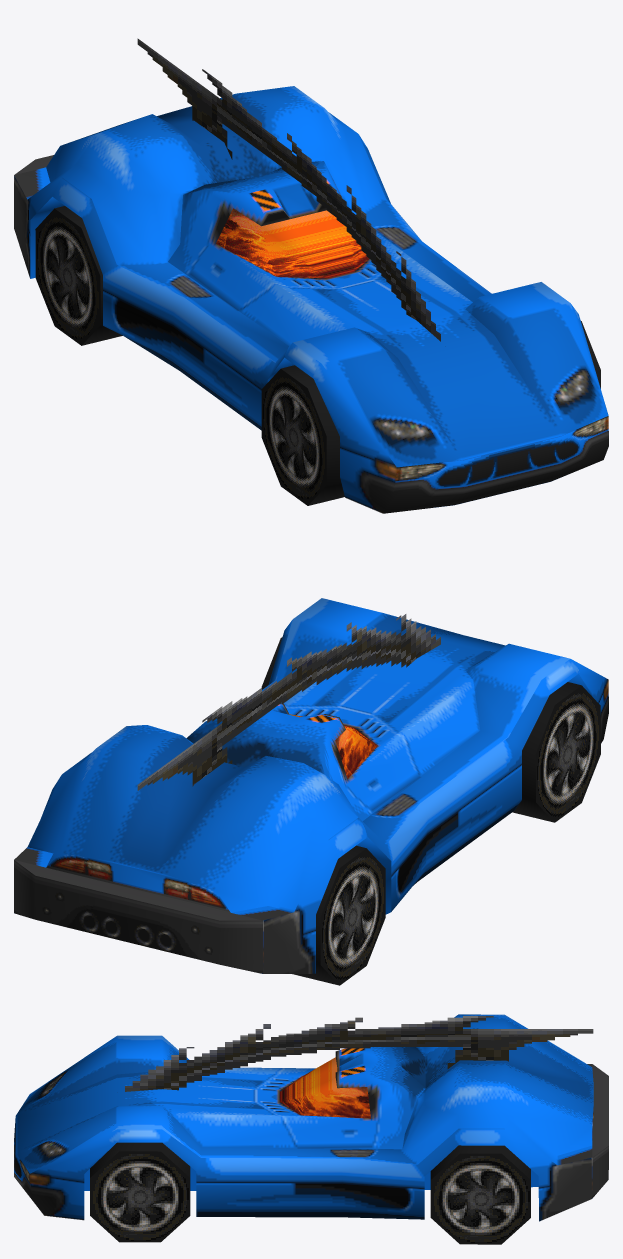
File: EAGBLUE.obj
The picture shows the model from 3 angles, top to bottom: view 1: azimuth 30°, elevation 25°; view 2: azimuth 150°, elevation 25°; view 3: azimuth 270°, elevation 25°; orthographic projection. The views are drawn at different scales.
Parts seen in each view (by area): view 1: EAGBLUE.DAT, WHEEL.DAT.003, WHEEL.DAT.001; view 2: EAGBLUE.DAT, WHEEL.DAT.003, WHEEL.DAT.001; view 3: EAGBLUE.DAT, WHEEL.DAT.002, WHEEL.DAT.
Part boxes in pixels (bbox=[...]): EAGBLUE.DAT: bbox=[14, 38, 608, 513]; WHEEL.DAT.003: bbox=[261, 365, 344, 505]; WHEEL.DAT.001: bbox=[35, 206, 122, 345]; EAGBLUE.DAT: bbox=[14, 598, 608, 973]; WHEEL.DAT.003: bbox=[512, 682, 600, 822]; WHEEL.DAT.001: bbox=[292, 845, 385, 985]; EAGBLUE.DAT: bbox=[14, 1014, 608, 1221]; WHEEL.DAT.002: bbox=[90, 1142, 190, 1242]; WHEEL.DAT: bbox=[430, 1145, 530, 1244].
Bounding box in the file's own units: 0.3614 × 0.2713 × 0.8365.
Materials: 9 (9 with a texture image).
